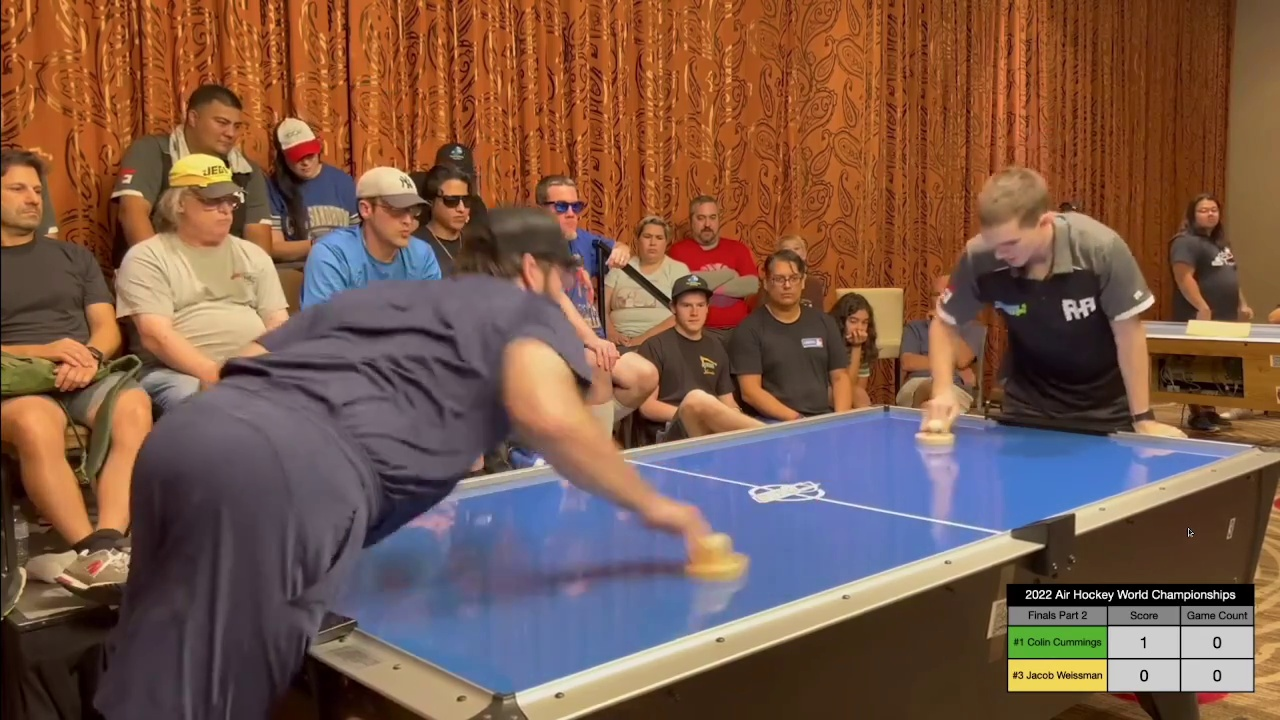player: (678, 531, 752, 580), (915, 418, 954, 448)
table: (174, 404, 1280, 694)
